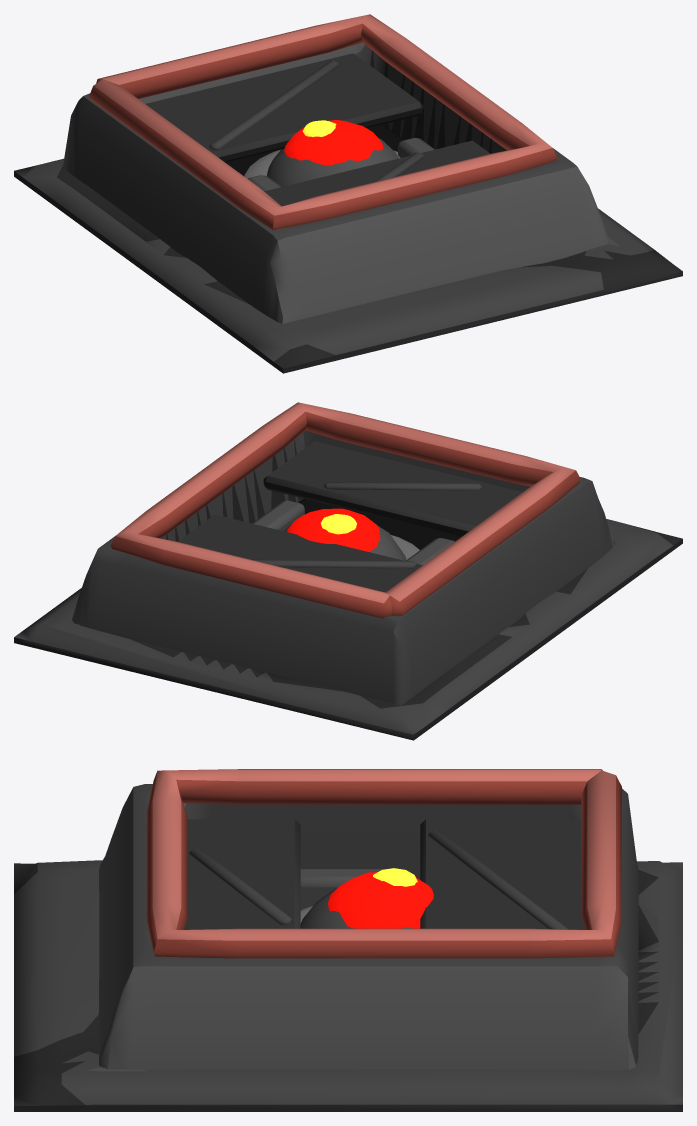
The model's file is hatch_bunker_56.glb.
3 views of the same model, one above another, from view 1: azimuth 30°, elevation 25°; view 2: azimuth 150°, elevation 25°; view 3: azimuth 270°, elevation 25° (orthographic). The views are drawn at different scales.
Parts seen in each view (by area): view 1: housing, ground, frame, lid_n, lid_s, eye, dome, lid_n_rib, pit_floor; view 2: housing, frame, ground, lid_s, lid_n, eye, pit_floor, lid_s_rib, lid_n_rib, strut1, dome, eye_core (+1 smaller); view 3: housing, ground, frame, lid_n, lid_s, eye, lid_n_rib, strut-1, lid_s_rib, dome, eye_core.
Part boxes in pixels (box(x1,y1,x2,y2)): housing: box(62, 42, 608, 323); ground: box(14, 158, 682, 373); frame: box(89, 14, 557, 230); lid_n: box(145, 53, 423, 162); lid_s: box(264, 140, 490, 206); eye: box(284, 120, 382, 165); dome: box(267, 138, 398, 186); lid_n_rib: box(209, 60, 339, 149); pit_floor: box(226, 124, 403, 176); housing: box(72, 430, 615, 705); frame: box(110, 402, 580, 618); ground: box(14, 519, 682, 740); lid_s: box(263, 441, 522, 536); lid_n: box(177, 514, 422, 592); eye: box(286, 508, 380, 551); pit_floor: box(298, 498, 460, 549); lid_s_rib: box(323, 482, 483, 490); lid_n_rib: box(251, 559, 417, 568); strut1: box(252, 500, 304, 530); dome: box(283, 524, 406, 560); eye_core: box(320, 514, 356, 534); housing: box(98, 784, 638, 1070); ground: box(14, 860, 682, 1111); frame: box(146, 769, 621, 958); lid_n: box(420, 819, 585, 929); lid_s: box(184, 819, 300, 929); eye: box(327, 872, 433, 928); lid_n_rib: box(428, 830, 568, 929); strut-1: box(300, 869, 385, 909); lid_s_rib: box(189, 848, 292, 924); dome: box(300, 887, 419, 928); eye_core: box(373, 868, 417, 886).
Size of the model in its own units: 24 by 8.16 by 28.
